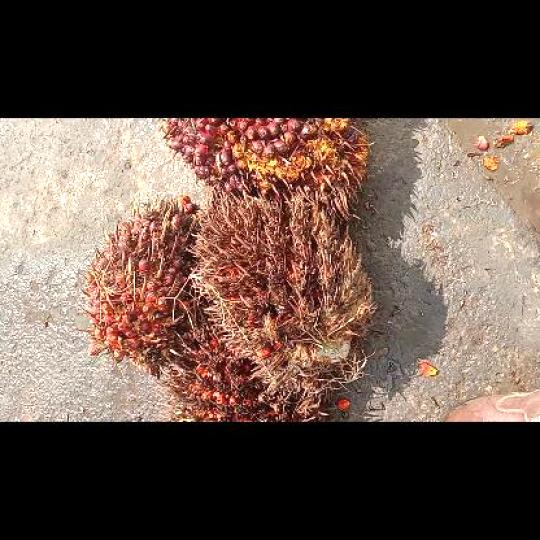masak: (77, 194, 211, 375), (157, 118, 367, 219)
terlalu masak: (186, 185, 377, 415), (159, 324, 285, 421)
